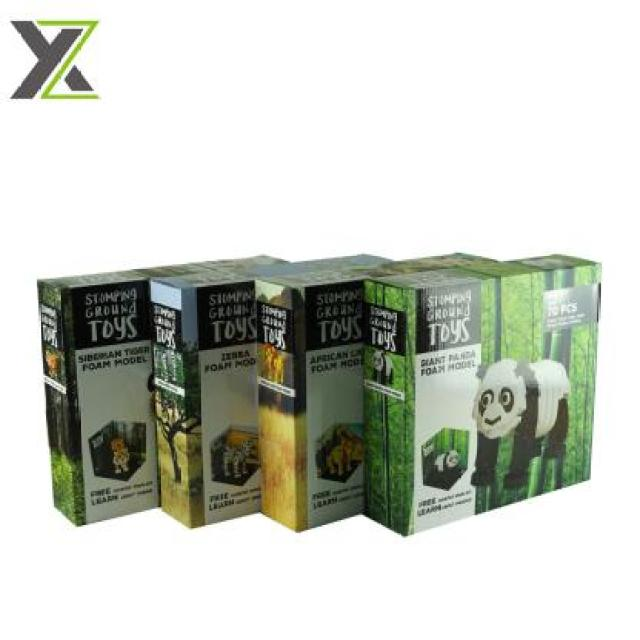box: (358, 231, 614, 568), (38, 244, 205, 529), (244, 217, 379, 554), (148, 238, 284, 556)
